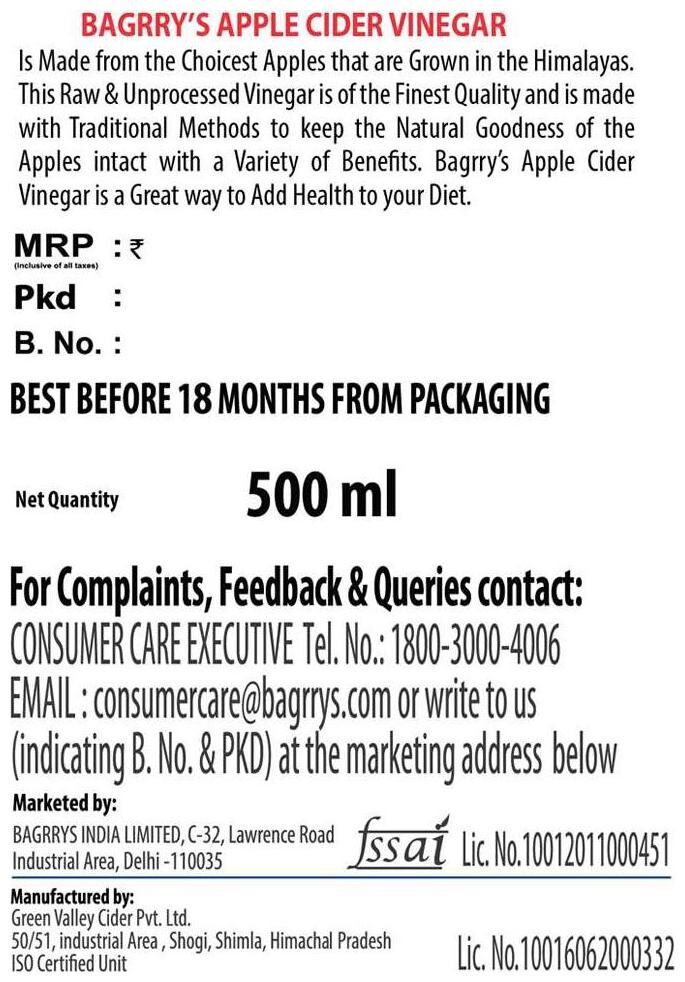fssai: (347, 813, 451, 871)
